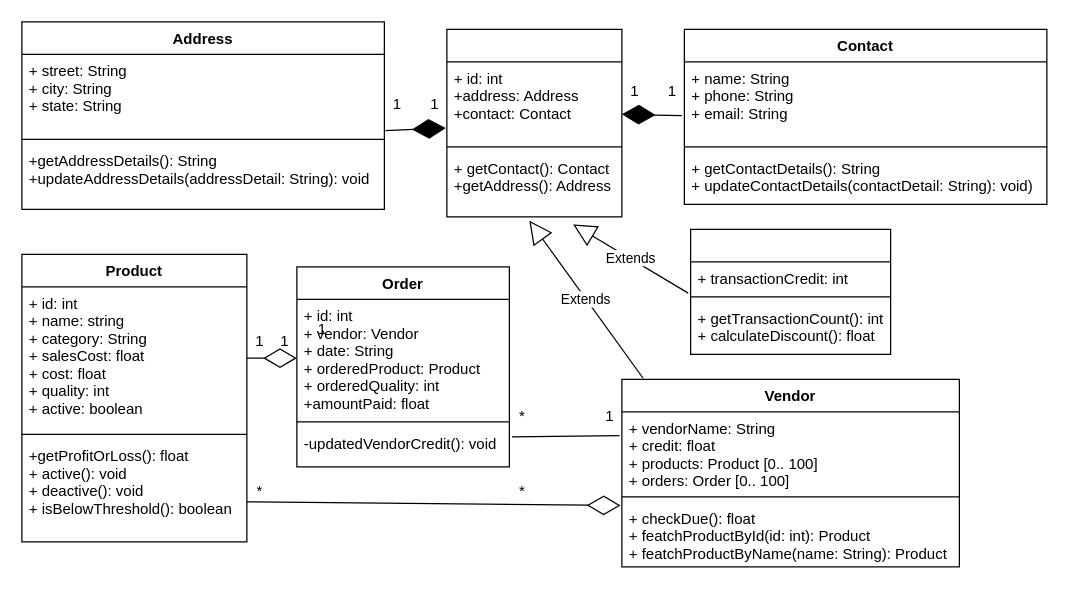
This 1069x593 diagram has some shape labels left out. The shapes that lost their labels are listed below. From the top down, each one's box as (x1, y1, x2, y2) in pixels, then its label:
(446, 28, 622, 217): BussinessPartner
(689, 228, 891, 354): Customer
